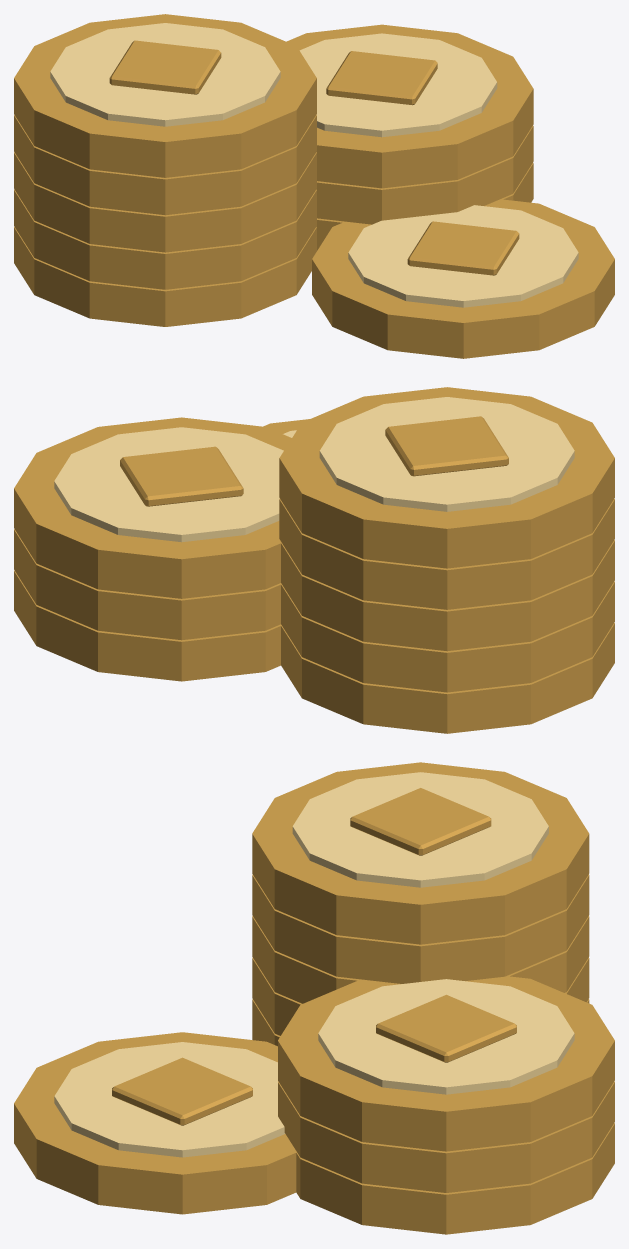
Rendered from 09_Coin_Stack.glb.
The picture shows the model from 3 angles, top to bottom: view 1: azimuth 30°, elevation 25°; view 2: azimuth 150°, elevation 25°; view 3: azimuth 270°, elevation 25°; orthographic projection. The views are drawn at different scales.
Parts seen in each view (by area): view 1: 09_Coin_Stack__Body; view 2: 09_Coin_Stack__Body; view 3: 09_Coin_Stack__Body.
Boxes of the visible parts, bbox=[...] form: 09_Coin_Stack__Body: bbox=[14, 14, 614, 358]; 09_Coin_Stack__Body: bbox=[14, 387, 614, 733]; 09_Coin_Stack__Body: bbox=[14, 762, 614, 1234].
Size of the model in its own units: 1.72 by 0.671 by 1.64.
Materials: 1 (1 with a texture image).
